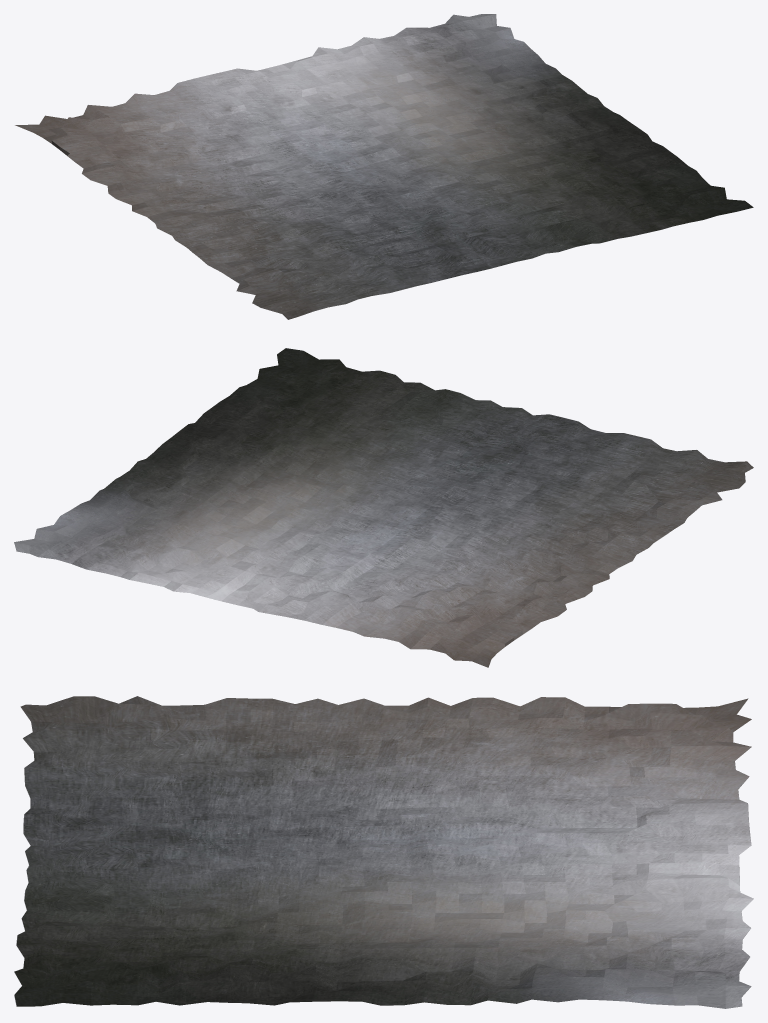
File: Map.fbx
3 renders of one model, top to bottom at view 1: azimuth 30°, elevation 25°; view 2: azimuth 150°, elevation 25°; view 3: azimuth 270°, elevation 25°, orthographic. The views are drawn at different scales.
Parts seen in each view (by area): view 1: Plane; view 2: Plane; view 3: Plane.
Boxes of the visible parts, bbox=[...] form: Plane: bbox=[15, 14, 753, 319]; Plane: bbox=[14, 348, 753, 667]; Plane: bbox=[14, 696, 753, 1008].
Size of the model in its own units: 6221 by 6174 by 82.42.
